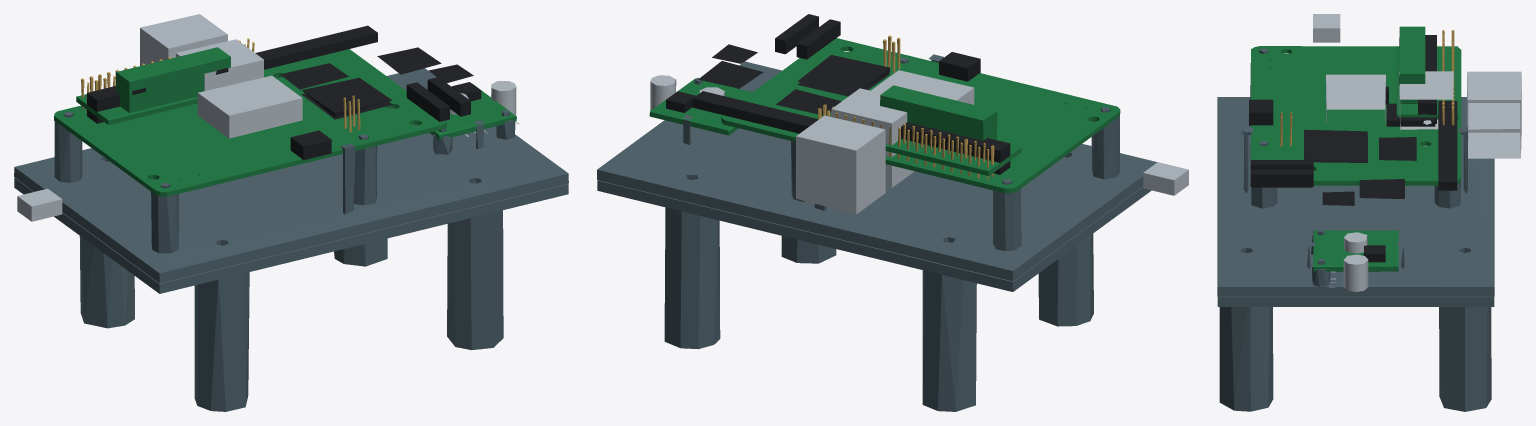
Rendered from controller.glb.
3 views of the same model, side by side, from view 1: azimuth 30°, elevation 25°; view 2: azimuth 150°, elevation 25°; view 3: azimuth 270°, elevation 25° (orthographic). The views are drawn at different scales.
Visible parts, largest first — view 1: print_controller_carrier, mesh_pcb_9, print_electronics_bridge, mesh_steel_11, mesh_rubber_and_chip_7, mesh_brass_7; view 2: print_controller_carrier, print_electronics_bridge, mesh_pcb_9, mesh_steel_11, mesh_rubber_and_chip_7, mesh_brass_7; view 3: print_controller_carrier, mesh_pcb_9, print_electronics_bridge, mesh_steel_11, mesh_rubber_and_chip_7, mesh_brass_7.
Boxes of the visible parts, left/top/right/bottom form: print_controller_carrier: left=14, top=68, right=568, bottom=283; mesh_pcb_9: left=54, top=47, right=516, bottom=196; print_electronics_bridge: left=14, top=178, right=568, bottom=411; mesh_steel_11: left=17, top=14, right=519, bottom=221; mesh_rubber_and_chip_7: left=87, top=25, right=481, bottom=160; mesh_brass_7: left=81, top=38, right=360, bottom=132; print_controller_carrier: left=597, top=54, right=1157, bottom=281; print_electronics_bridge: left=597, top=180, right=1151, bottom=411; mesh_pcb_9: left=649, top=38, right=1120, bottom=193; mesh_steel_11: left=650, top=70, right=1188, bottom=214; mesh_rubber_and_chip_7: left=666, top=14, right=1010, bottom=174; mesh_brass_7: left=818, top=35, right=994, bottom=180; print_controller_carrier: left=1217, top=48, right=1494, bottom=296; mesh_pcb_9: left=1250, top=26, right=1461, bottom=271; print_electronics_bridge: left=1217, top=296, right=1494, bottom=411; mesh_steel_11: left=1313, top=14, right=1521, bottom=291; mesh_rubber_and_chip_7: left=1249, top=35, right=1457, bottom=262; mesh_brass_7: left=1280, top=30, right=1454, bottom=146.
Bounding box in the file's own units: 1.48 × 0.7344 × 0.8082.
